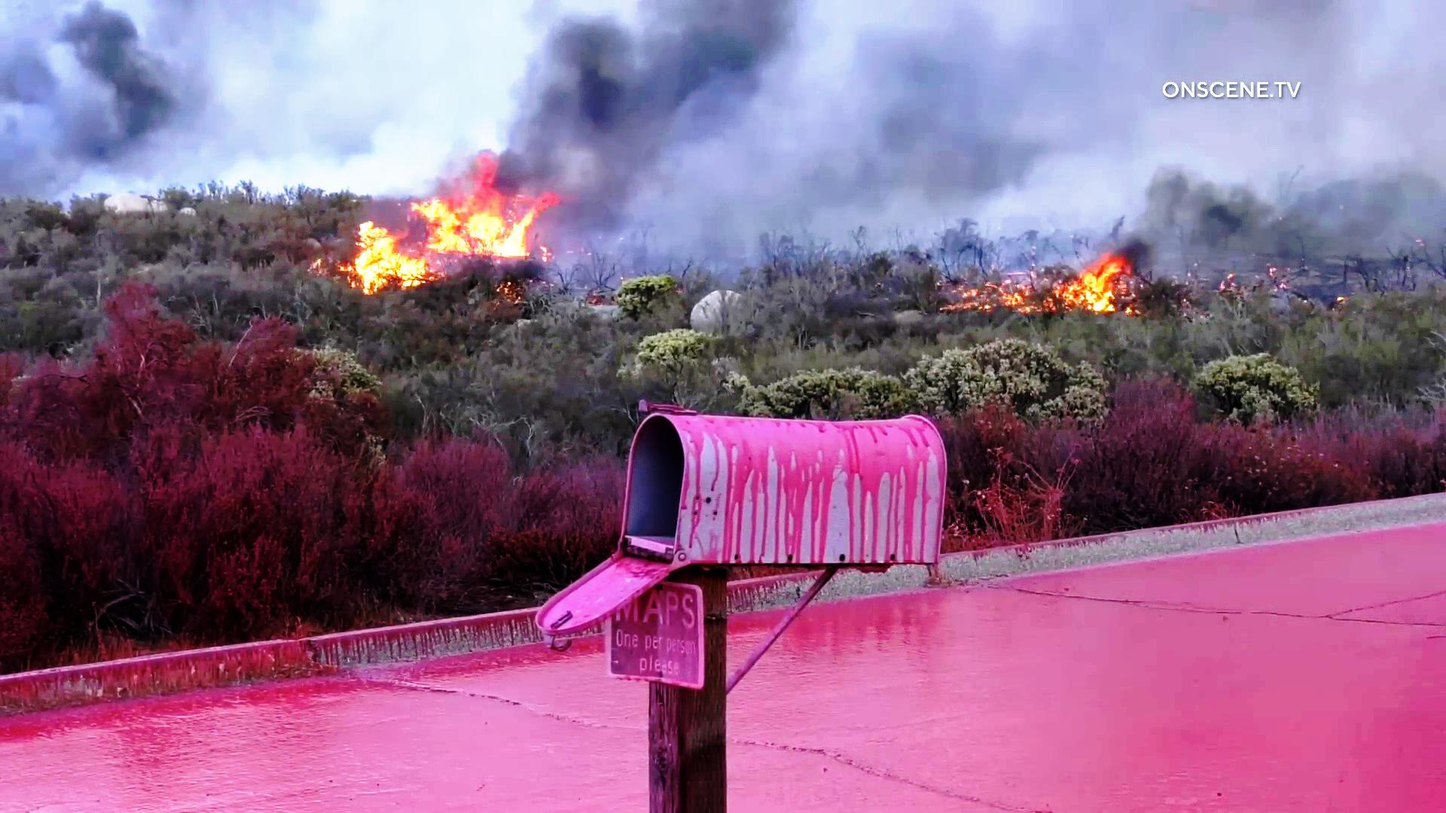fire: (335, 157, 550, 271)
smoke: (518, 8, 886, 175), (0, 0, 238, 185), (1136, 162, 1403, 265)
